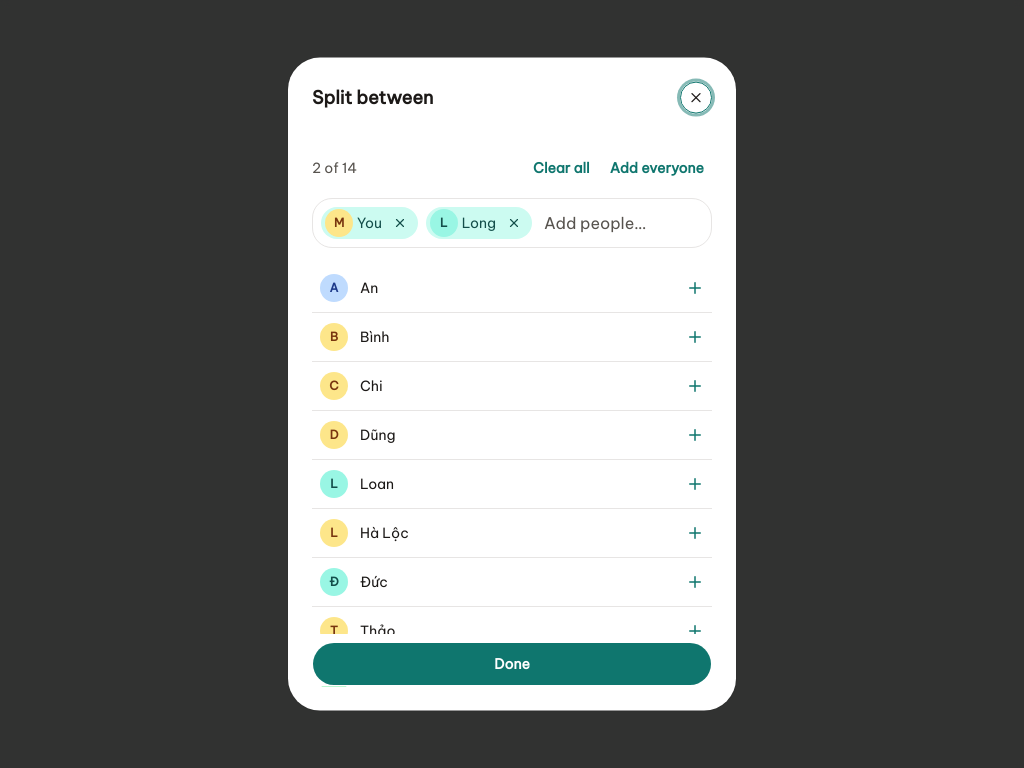
Scenario: SplitPeopleSheet, searching › Backspace in an empty field removes the last chip, and does nothing with no chips
Step 1. Click the field labelled "Add people" → (622, 223), box [540, 207, 703, 239]
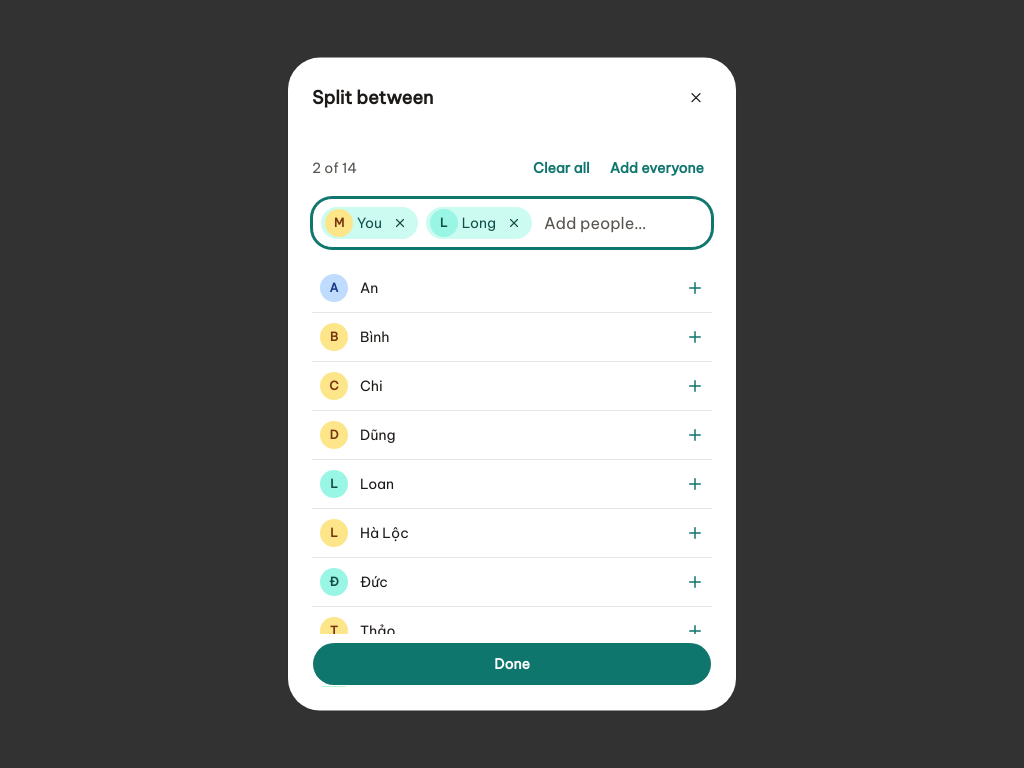
Step 2. Press Backspace
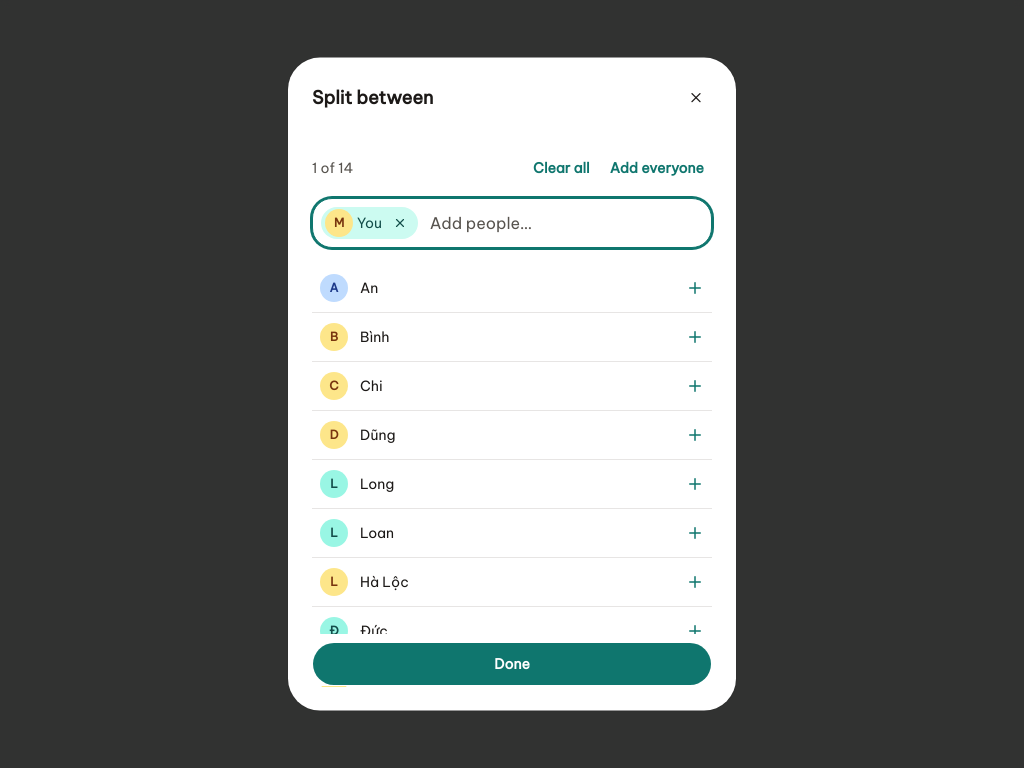
Expected: the button named "Remove Minh" is shown, [386, 209, 414, 237]
Step 3. Press Backspace Backspace
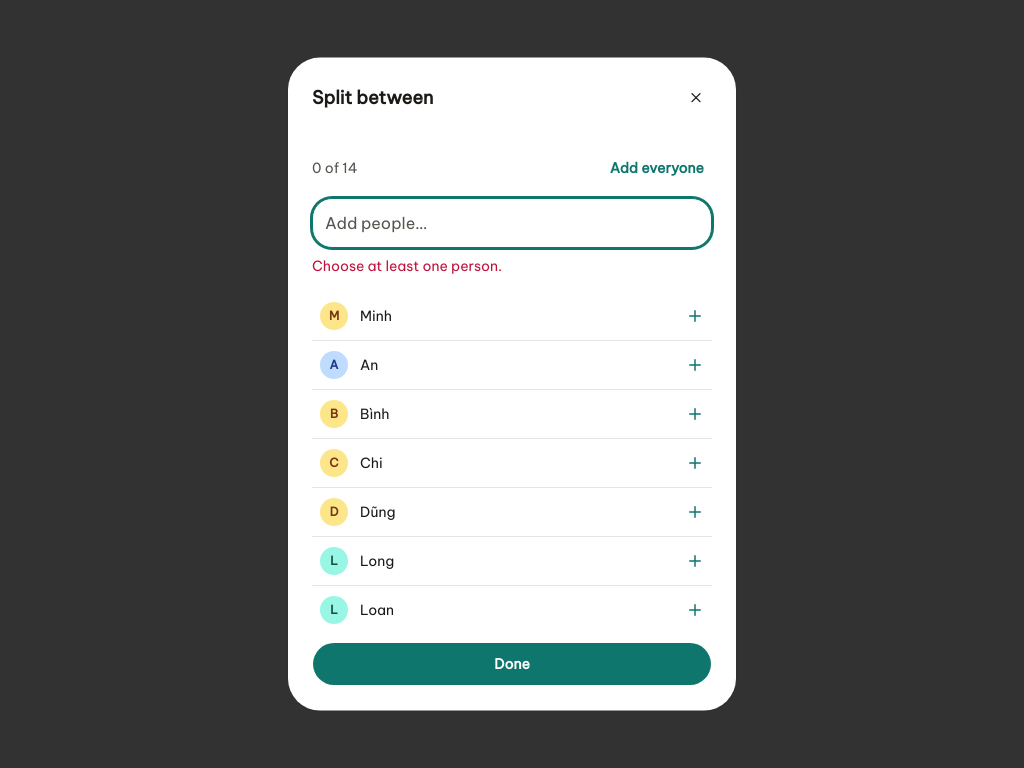
Expected: the text "0 of 14" is shown, [312, 158, 358, 178]
